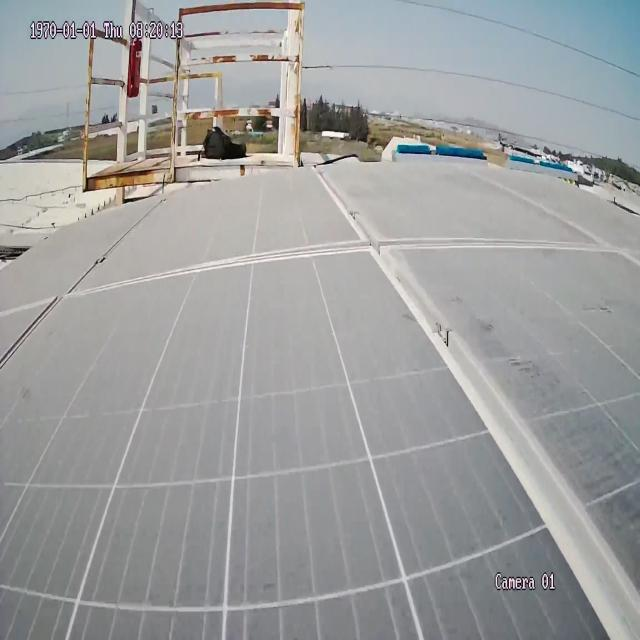interior panel: (0, 173, 637, 635)
